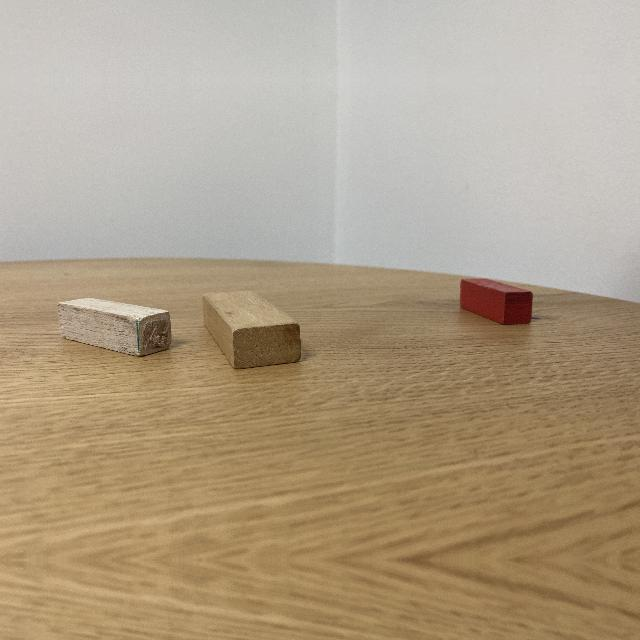block: (56, 298, 172, 359)
jenga: (201, 292, 303, 372)
red block: (460, 278, 535, 326)
